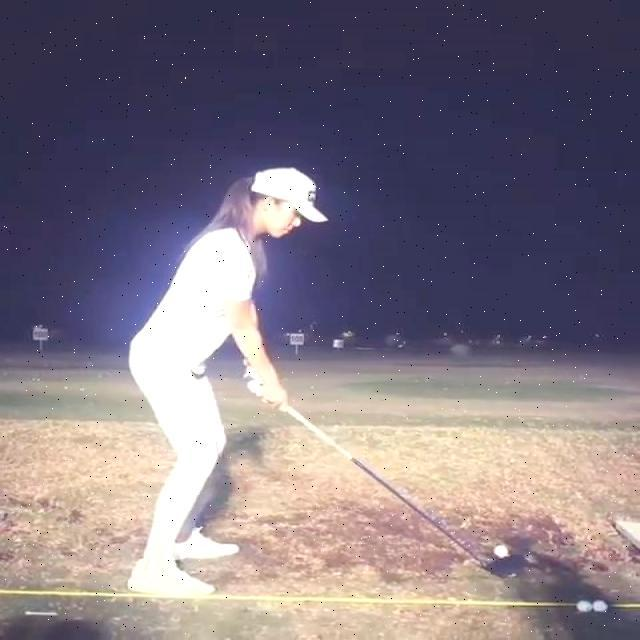ClubHandle: (240, 371, 525, 579)
ClubHead: (484, 555, 526, 579)
GolfBall: (492, 546, 508, 559), (593, 602, 608, 612), (577, 602, 592, 611)
